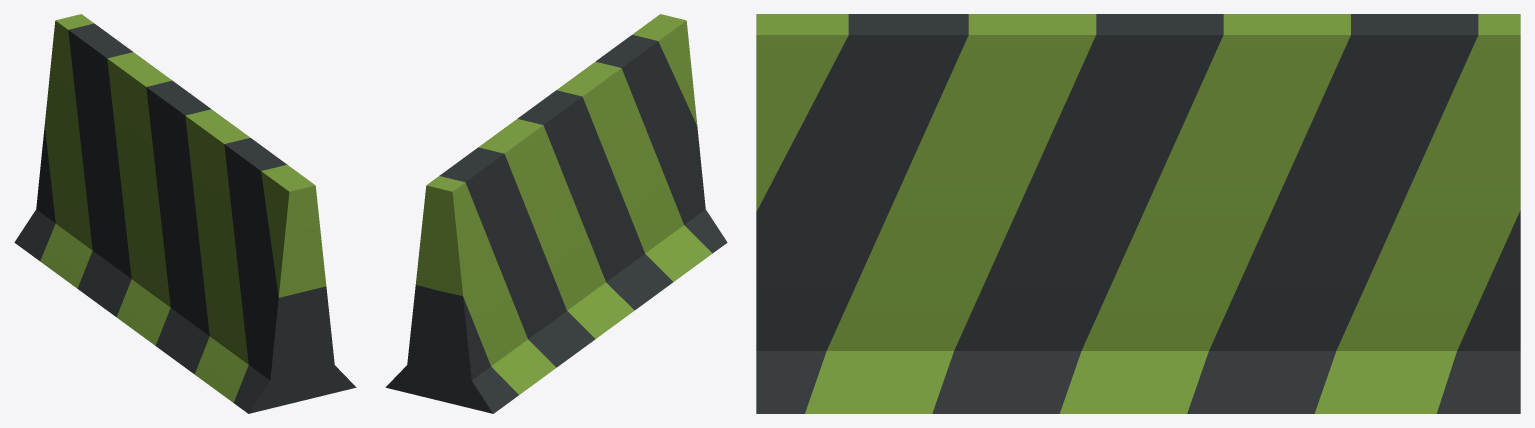
File: RoadPart_04.fbx
3 renders of one model, left to right at view 1: azimuth 30°, elevation 25°; view 2: azimuth 150°, elevation 25°; view 3: azimuth 270°, elevation 25°, orthographic. The views are drawn at different scales.
Visible parts, largest first — view 1: RoadPart_04; view 2: RoadPart_04; view 3: RoadPart_04.
Boxes of the visible parts, x1,y1,x2,y2 form: RoadPart_04: (14, 14, 356, 413); RoadPart_04: (385, 14, 727, 413); RoadPart_04: (756, 14, 1520, 413).
Bounding box in the file's own units: 0.4 × 0.75 × 1.5.
